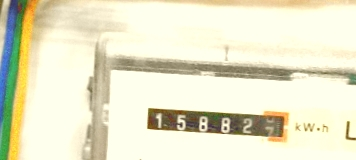1: (152, 110, 164, 129)
2: (240, 115, 252, 133)
5: (173, 112, 186, 130)
7: (262, 123, 274, 137)
8: (196, 113, 208, 131), (219, 116, 230, 132)
screen: (137, 95, 295, 147)
